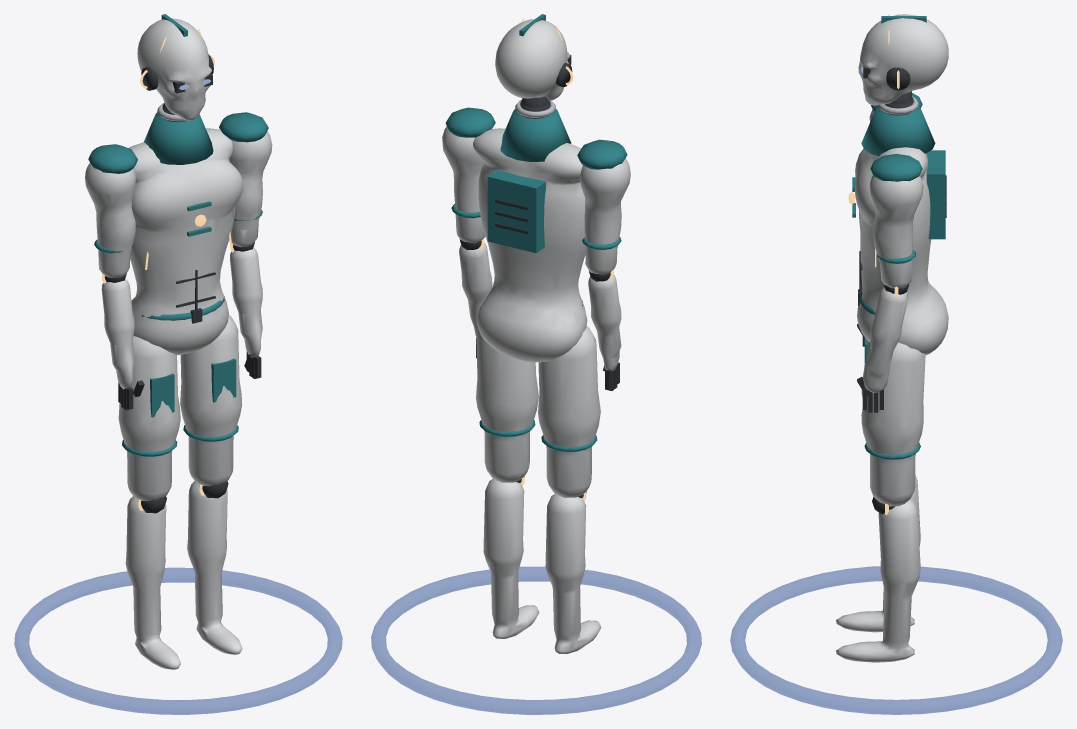
Rendered from Char_Android_Agent.gltf.
3 renders of one model, left to right at view 1: azimuth 30°, elevation 25°; view 2: azimuth 150°, elevation 25°; view 3: azimuth 270°, elevation 25°, orthographic.
Visible parts, largest first — view 1: Char_Android_Agent, Agent_Leg_L, Agent_Leg_R, Agent_Head, Agent_Shin_R, Agent_Shin_L, Agent_Arm_R, Agent_Arm_L, Agent_Forearm_R, Agent_Forearm_L; view 2: Char_Android_Agent, Agent_Leg_R, Agent_Leg_L, Agent_Shin_L, Agent_Shin_R, Agent_Arm_R, Agent_Head, Agent_Arm_L, Agent_Forearm_R, Agent_Forearm_L; view 3: Char_Android_Agent, Agent_Leg_L, Agent_Head, Agent_Shin_L, Agent_Arm_L, Agent_Forearm_L, Agent_Shin_R.
Part boxes in pixels (x1=…): Char_Android_Agent: x1=14, y1=103, x2=342, y2=714; Agent_Leg_L: x1=180, y1=315, x2=242, y2=486; Agent_Leg_R: x1=118, y1=336, x2=180, y2=501; Agent_Head: x1=137, y1=14, x2=214, y2=120; Agent_Shin_R: x1=125, y1=496, x2=180, y2=669; Agent_Shin_L: x1=187, y1=481, x2=242, y2=654; Agent_Arm_R: x1=85, y1=144, x2=137, y2=277; Agent_Arm_L: x1=219, y1=112, x2=272, y2=247; Agent_Forearm_R: x1=101, y1=273, x2=144, y2=410; Agent_Forearm_L: x1=230, y1=242, x2=262, y2=378; Char_Android_Agent: x1=371, y1=99, x2=701, y2=714; Agent_Leg_R: x1=538, y1=326, x2=600, y2=497; Agent_Leg_L: x1=476, y1=325, x2=538, y2=482; Agent_Shin_L: x1=483, y1=476, x2=539, y2=638; Agent_Shin_R: x1=545, y1=491, x2=601, y2=653; Agent_Arm_R: x1=577, y1=139, x2=630, y2=274; Agent_Head: x1=495, y1=14, x2=573, y2=107; Agent_Arm_L: x1=442, y1=107, x2=495, y2=243; Agent_Forearm_R: x1=588, y1=270, x2=621, y2=390; Agent_Forearm_L: x1=459, y1=238, x2=492, y2=358; Char_Android_Agent: x1=730, y1=96, x2=1062, y2=714; Agent_Leg_L: x1=861, y1=341, x2=925, y2=506; Agent_Head: x1=858, y1=14, x2=948, y2=105; Agent_Shin_L: x1=836, y1=497, x2=920, y2=662; Agent_Arm_L: x1=869, y1=154, x2=923, y2=288; Agent_Forearm_L: x1=857, y1=284, x2=909, y2=412; Agent_Shin_R: x1=836, y1=475, x2=920, y2=632.
Bounding box in the file's own units: 0.88 × 1.84 × 0.88.
